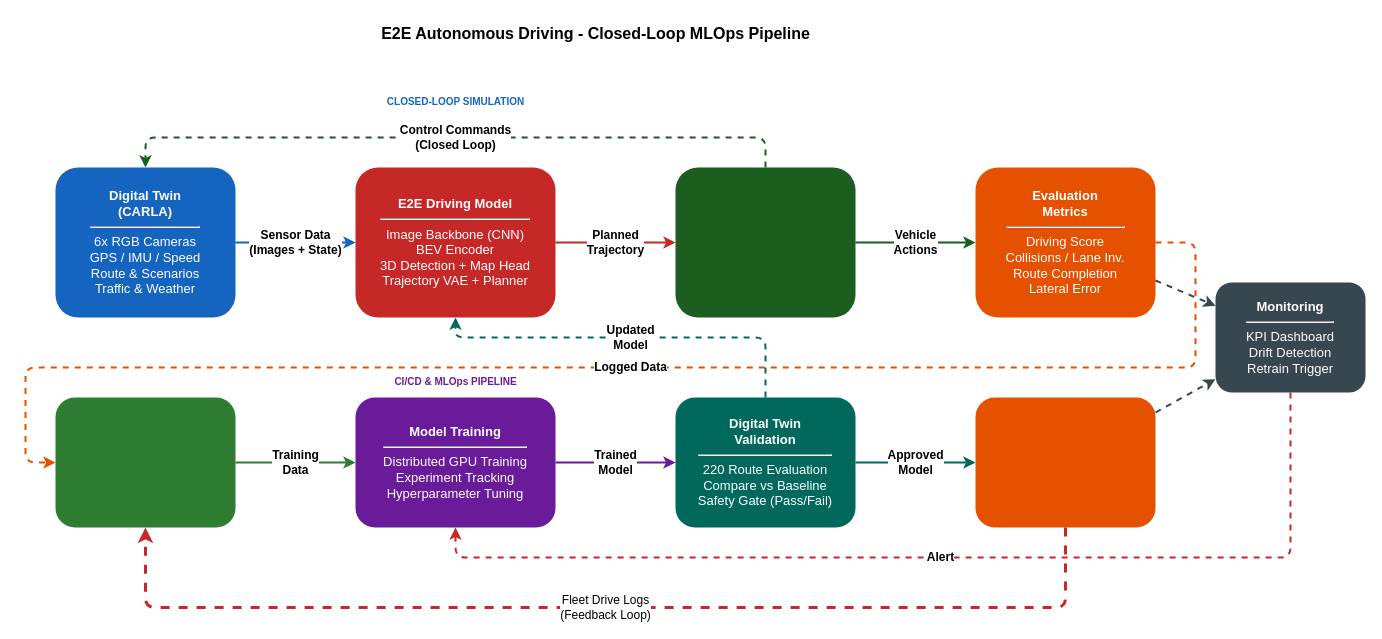
Some shapes in this 1382 by 639 pixel diagram are drawn without their labels. Here are the shapes that lost their labels. From the top down, the centre of each, then its label:
At [765,242]: "Vehicle Control PID Controller Throttle / Steer / Brake Applied to Ego Vehicle".
At [145,462]: "Data Lake Drive Logs Storage Versioned Datasets Auto Annotation".
At [1065,462]: "Fleet Deployment Model Optimization OTA Update Canary + Full Rollout".
